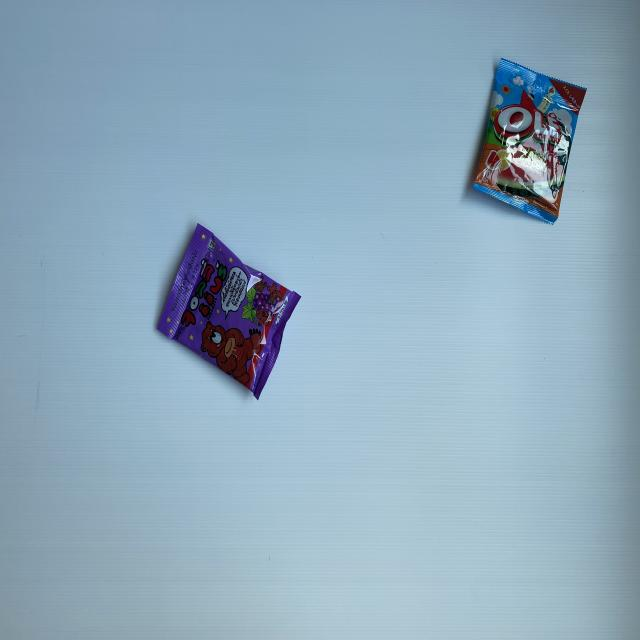candy: (158, 225, 301, 401), (474, 58, 588, 224)
